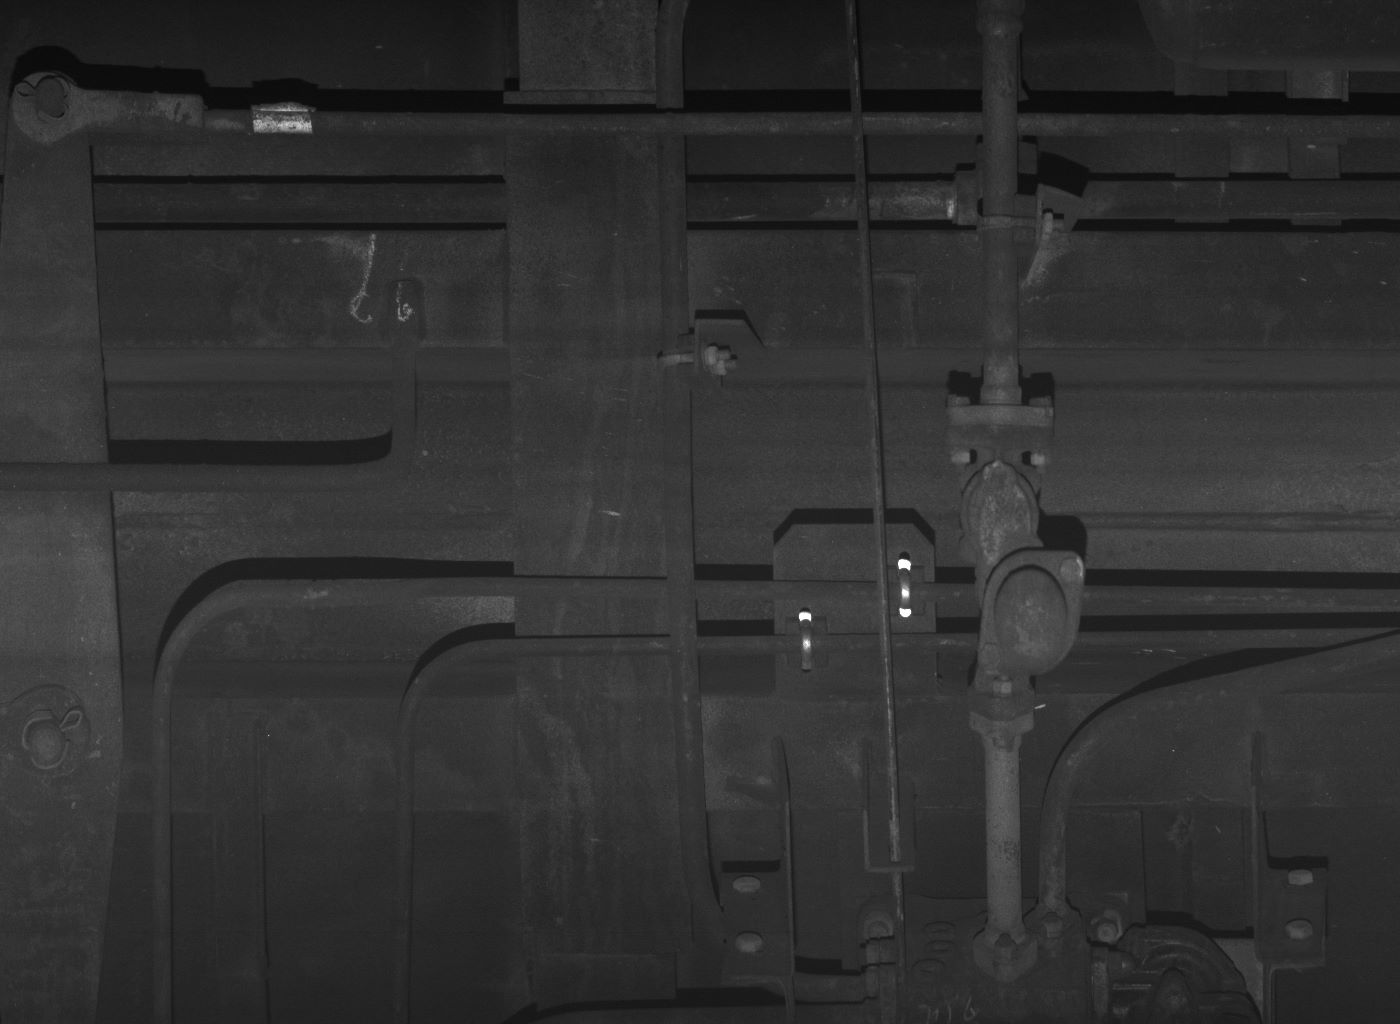normal: (957, 460, 1045, 567)
